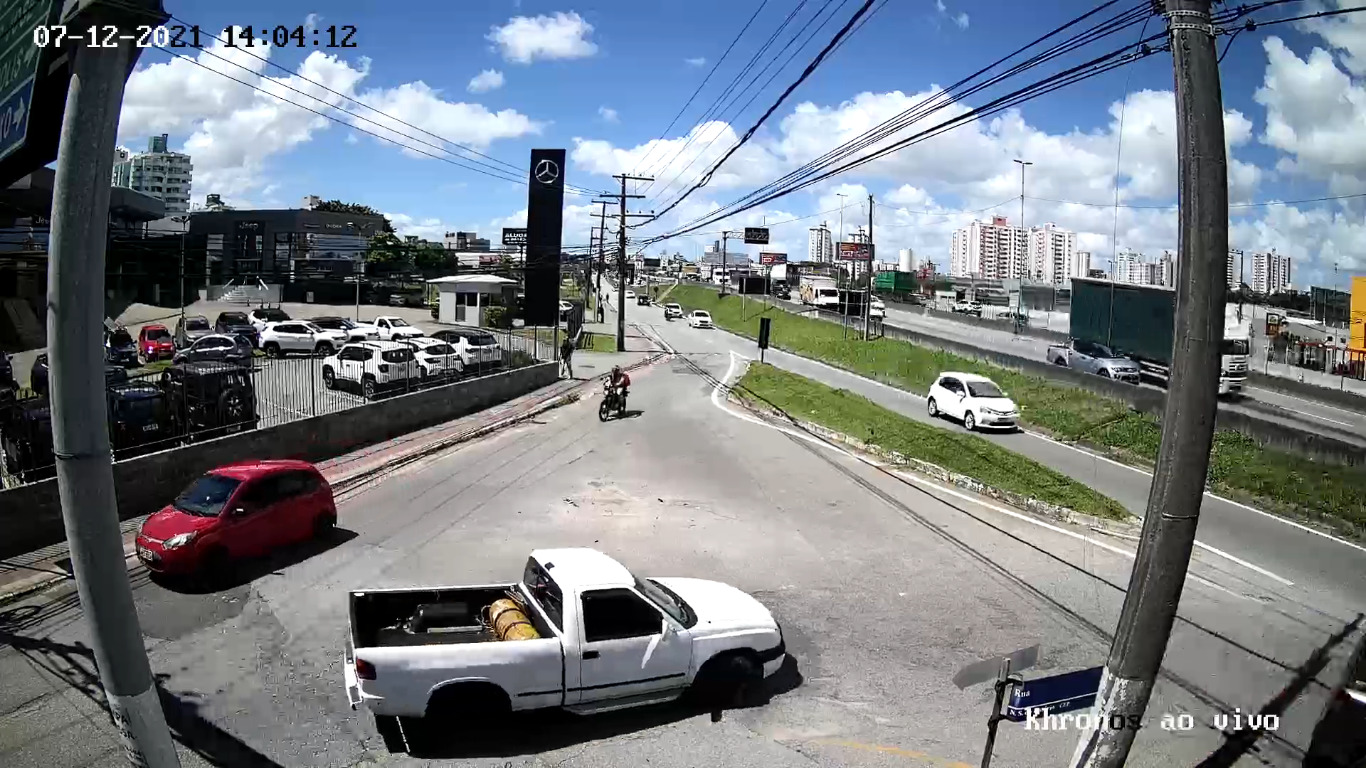car: (344, 550, 787, 749), (136, 459, 338, 581)
